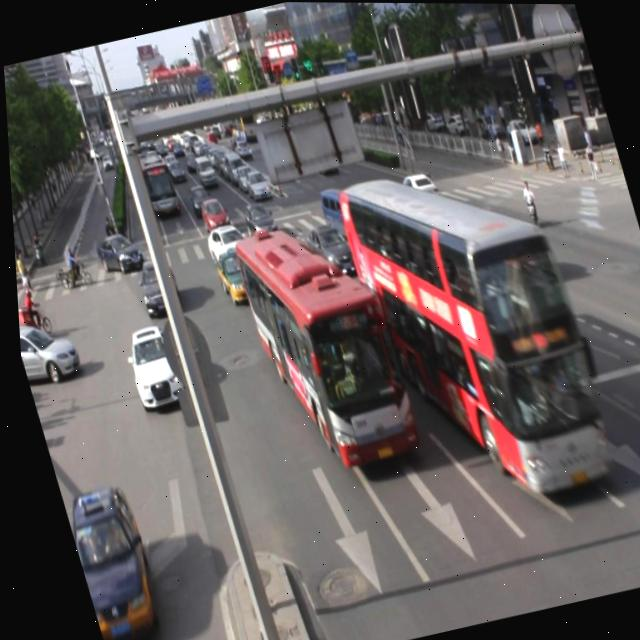car: (54, 481, 161, 640), (114, 320, 184, 410), (488, 212, 557, 288), (299, 217, 358, 282), (129, 254, 181, 316), (208, 244, 256, 305), (199, 221, 250, 270)
van: (326, 145, 616, 522), (229, 213, 418, 478)
